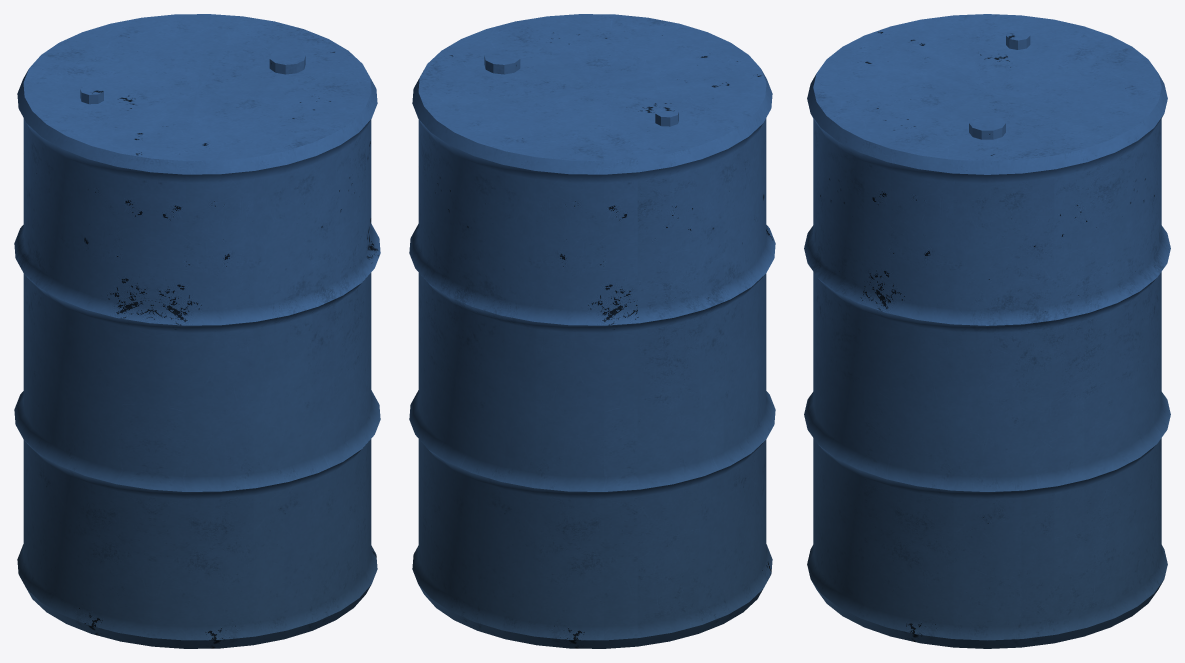
The model's file is prop_drum.glb.
3 renders of one model, left to right at view 1: azimuth 30°, elevation 25°; view 2: azimuth 150°, elevation 25°; view 3: azimuth 270°, elevation 25°, orthographic.
Parts seen in each view (by area): view 1: DrumBody, Bungs; view 2: DrumBody, Bungs; view 3: DrumBody, Bungs.
Boxes of the visible parts, x1,y1,x2,y2 form: DrumBody: [14, 14, 380, 648]; Bungs: [80, 49, 305, 104]; DrumBody: [409, 14, 775, 648]; Bungs: [484, 49, 678, 126]; DrumBody: [804, 14, 1170, 648]; Bungs: [969, 30, 1030, 139].
Bounding box in the file's own units: 0.6 × 0.895 × 0.6.
Materials: 1 (1 with a texture image).
